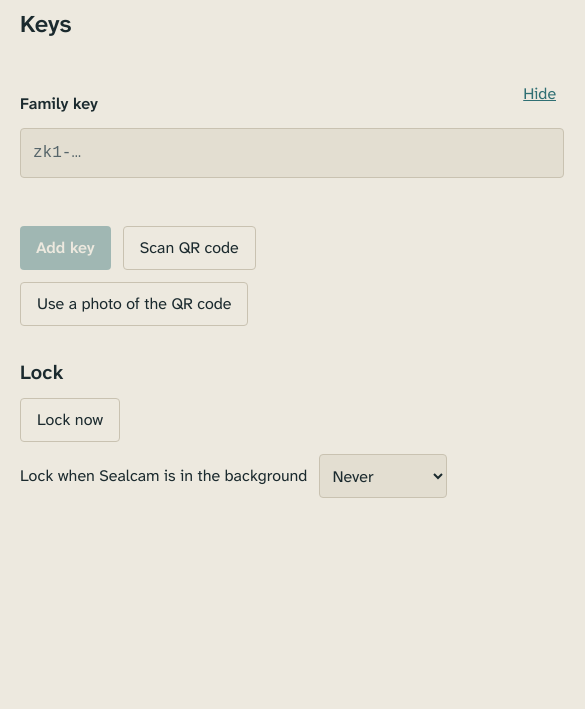
Test: Keys page › refreshes the keyring when Keep it on this phone is chosen
Type "zk1-000102030405060708090a0b0c0d0e0f101112131415161718191a1b1c1d1e1f-2418" into the field labelled "Family key". click: (292, 153)
box: [20,128,564,178]
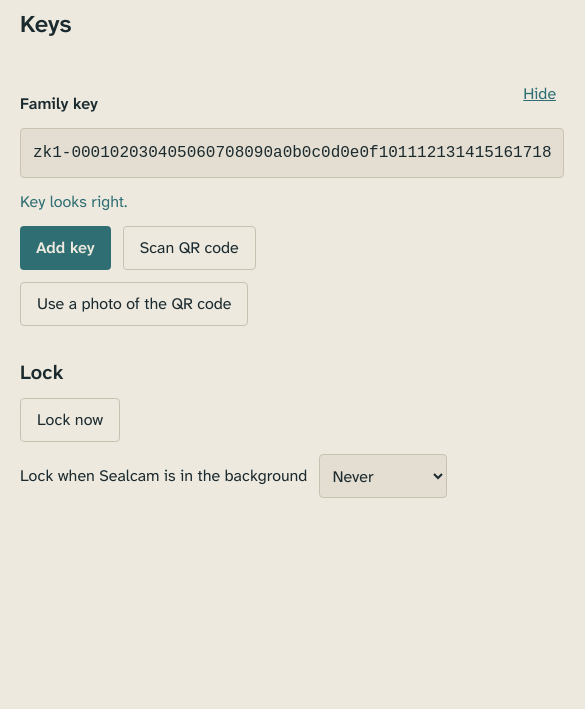
Click the button "Add key". click: (65, 248)
box: [20,226,111,270]
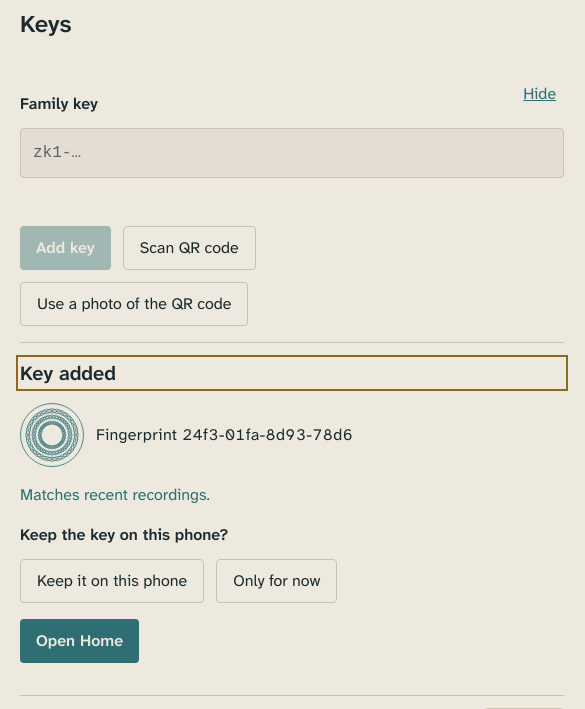
Now the heading "Key added" is shown, box [20,360,116,386]
Click the button "Keep it on this phone". click: (112, 581)
box: [20,559,204,603]
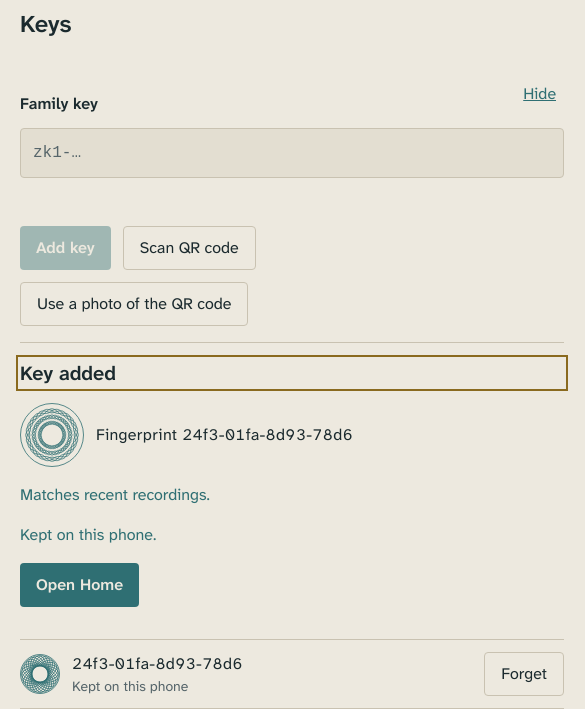
Now the text "Kept on this phone" is shown, box [72,677,188,695]
